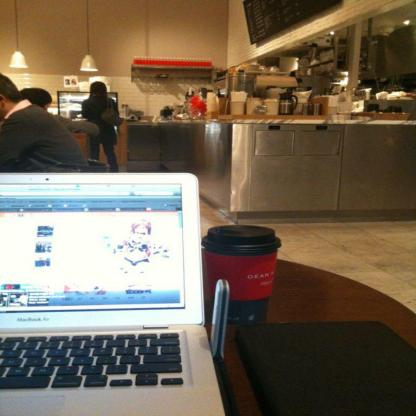board: (0, 172, 224, 416)
